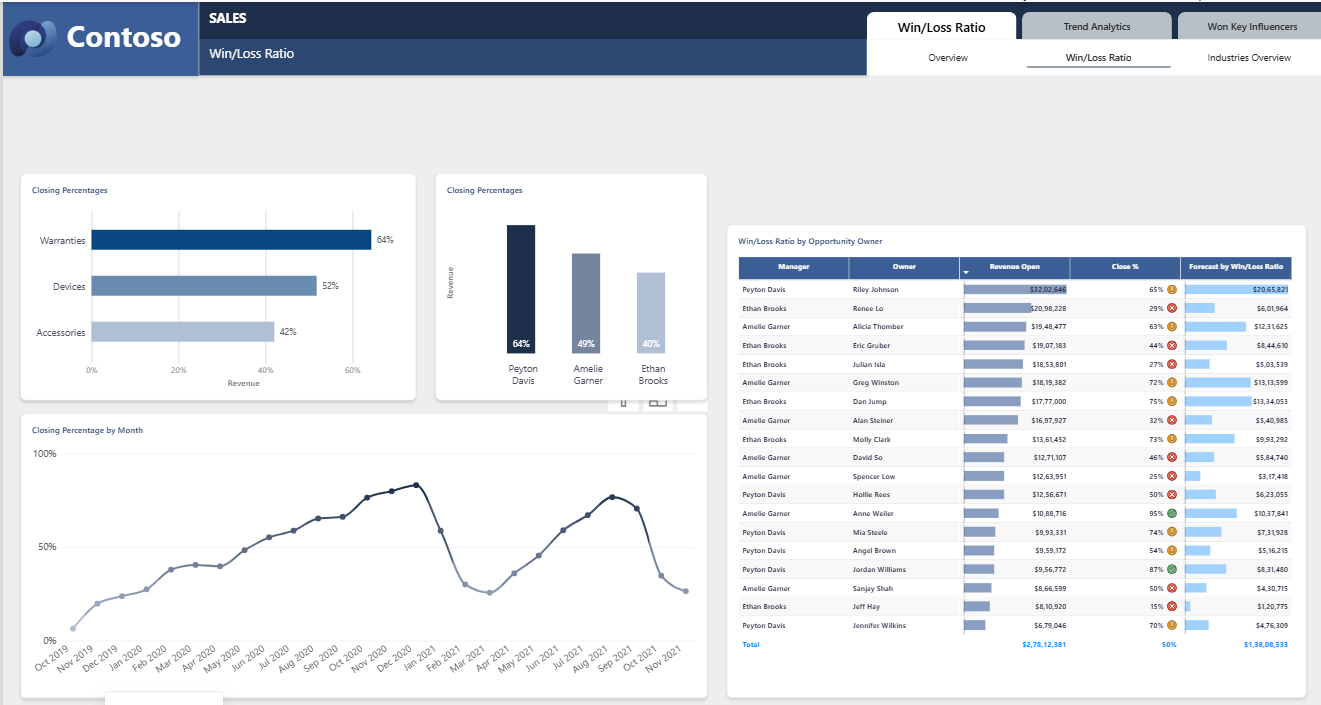

The dashboard page shown, as its layout file describes it:
{"tool":"powerbi","page":{"name":"Win/Loss Ratio","canvas":[1920,1080],"ordinal":1},"visuals":[{"type":"group","id":"g1","title":"Header","box":[0,0,1918,107.6],"z":0},{"type":"shape","title":"Horizontal Shape","box":[283.4,53.1,967.2,54],"z":0,"group":"g1"},{"type":"shape","title":"Horizontal Shape","box":[283.4,0.3,1633.9,53.8],"z":2000,"group":"g1"},{"type":"pageNavigator","box":[1250,15,667.5,40],"z":2500,"group":"g1"},{"type":"shape","title":"Horizontal Shape","box":[1249.9,54,668,52.1],"z":2750,"group":"g1"},{"type":"shape","title":"Horizontal Shape","box":[0,0,283.5,107.6],"z":3000,"group":"g1"},{"type":"tableEx","title":"Win/Loss Ratio by Opportunity Owner","fields":{"Values":["Owners.Manager","Owners.Owner","Opportunities.Revenue Open","Opportunities.Close %","Opportunities.Forecast by Win/Loss Ratio"]},"box":[1048.6,322.2,838.9,685.4],"z":3000},{"type":"pageNavigator","box":[1262.5,63.8,646.2,32.5],"z":3250,"group":"g1"},{"type":"lineChart","title":"Closing Percentage by Month","fields":{"Y":["Opportunities.Close %"],"Category":["Opportunity Calendar.YEAR MONTH"]},"box":[25.9,594.6,994.6,413],"z":4000},{"type":"textbox","title":"Report Title","box":[298.6,61.4,438.7,36.5],"z":4125,"group":"g1"},{"type":"textbox","title":"Report Title Category","box":[299,11.5,438.7,37.2],"z":4187,"group":"g1"},{"type":"textbox","title":"Company name","box":[93,17.3,190.3,88.6],"z":4250,"group":"g1"},{"type":"image","title":"Company Logo","box":[8.6,17.1,68.6,73.6],"z":4500,"group":"g1"},{"type":"barChart","title":"Closing Percentages","fields":{"Category":["Products.Product LOB","Products.Product"],"Y":["Opportunities.Close %"]},"box":[25.9,248.6,573,328.6],"z":5000},{"type":"FlowVisual_C29F1DCC_81F5_4973_94AD_0517D44CC06A","fields":{"table":["Owners.systemuserid"]},"box":[1048.6,248.6,830.3,73.5],"z":6000},{"type":"clusteredColumnChart","title":"Closing Percentages","fields":{"Category":["Owners.Manager","Owners.Owner"],"Y":["Opportunities.Close %"]},"box":[627,248.6,393.5,328.6],"z":7000},{"type":"cardVisual","title":"Revenue won","fields":{"Data":["Opportunities.Revenue Won","Opportunities.Revenue Open","Opportunities.Forecast by Win/Loss Ratio","Opportunities.Forecast"]},"box":[25,138,1861,92],"z":8000}]}

Visuals, with their boxes on the page's 1920x1080 design canvas (x1, y1, x2, y2). These are canvas units, not pixel positions in the 1321x705 screenshot, which may show the page scaled, cropped or inside an application window:
"Header" group: {"left": 0, "top": 0, "right": 1918, "bottom": 108}
"Horizontal Shape" shape: {"left": 283, "top": 53, "right": 1251, "bottom": 107}
"Horizontal Shape" shape: {"left": 283, "top": 0, "right": 1917, "bottom": 54}
pageNavigator: {"left": 1250, "top": 15, "right": 1918, "bottom": 55}
"Horizontal Shape" shape: {"left": 1250, "top": 54, "right": 1918, "bottom": 106}
"Horizontal Shape" shape: {"left": 0, "top": 0, "right": 284, "bottom": 108}
"Win/Loss Ratio by Opportunity Owner" tableEx: {"left": 1049, "top": 322, "right": 1888, "bottom": 1008}
pageNavigator: {"left": 1262, "top": 64, "right": 1909, "bottom": 96}
"Closing Percentage by Month" lineChart: {"left": 26, "top": 595, "right": 1020, "bottom": 1008}
"Report Title" textbox: {"left": 299, "top": 61, "right": 737, "bottom": 98}
"Report Title Category" textbox: {"left": 299, "top": 12, "right": 738, "bottom": 49}
"Company name" textbox: {"left": 93, "top": 17, "right": 283, "bottom": 106}
"Company Logo" image: {"left": 9, "top": 17, "right": 77, "bottom": 91}
"Closing Percentages" barChart: {"left": 26, "top": 249, "right": 599, "bottom": 577}
FlowVisual_C29F1DCC_81F5_4973_94AD_0517D44CC06A - Owners.systemuserid: {"left": 1049, "top": 249, "right": 1879, "bottom": 322}
"Closing Percentages" clusteredColumnChart: {"left": 627, "top": 249, "right": 1020, "bottom": 577}
"Revenue won" cardVisual: {"left": 25, "top": 138, "right": 1886, "bottom": 230}
